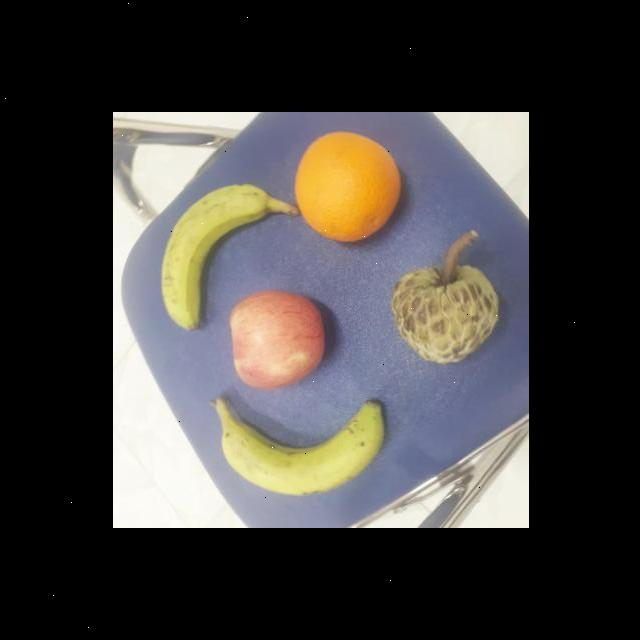Sakya fruit: (389, 264, 498, 364)
apple: (227, 288, 330, 392)
banana: (156, 182, 274, 332), (210, 395, 386, 491)
orange: (290, 129, 400, 243)
